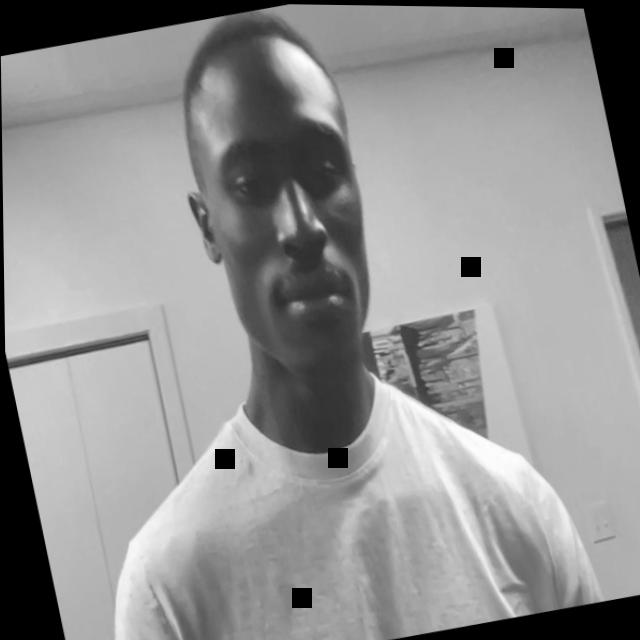NO-Mask: (169, 46, 399, 404)
